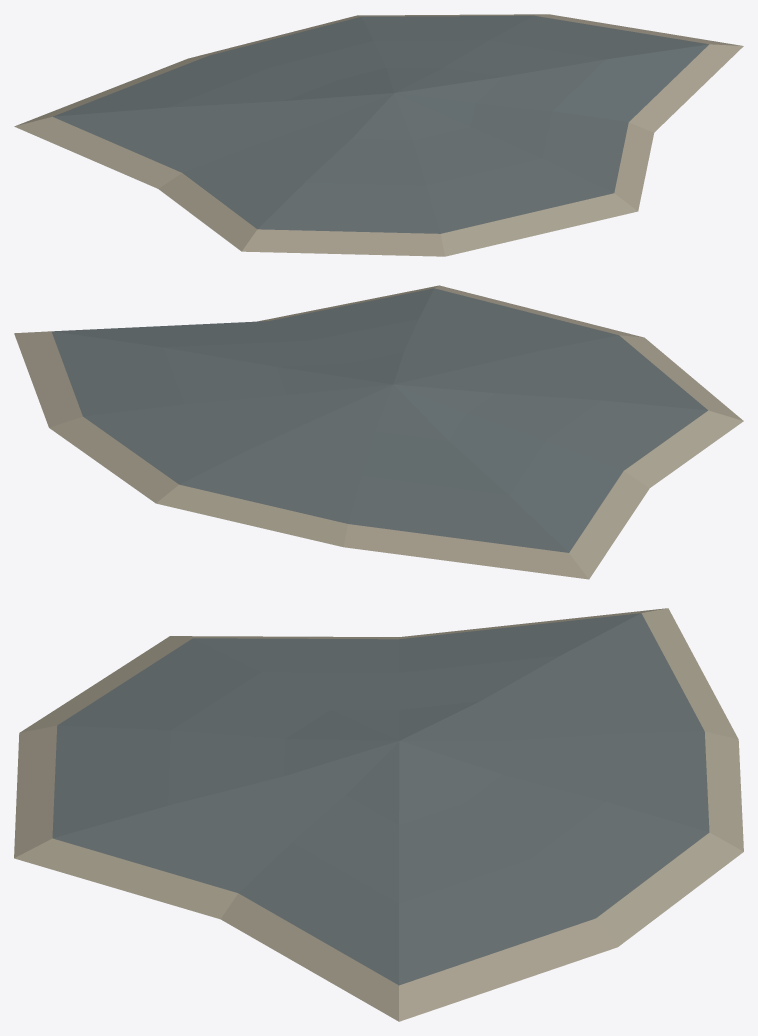
The model's file is kingbreaker_reef_lod1.glb.
3 renders of one model, top to bottom at view 1: azimuth 30°, elevation 25°; view 2: azimuth 150°, elevation 25°; view 3: azimuth 270°, elevation 25°, orthographic. The views are drawn at different scales.
Bounding box in the file's own units: 2.59 × 0.19 × 1.93.
